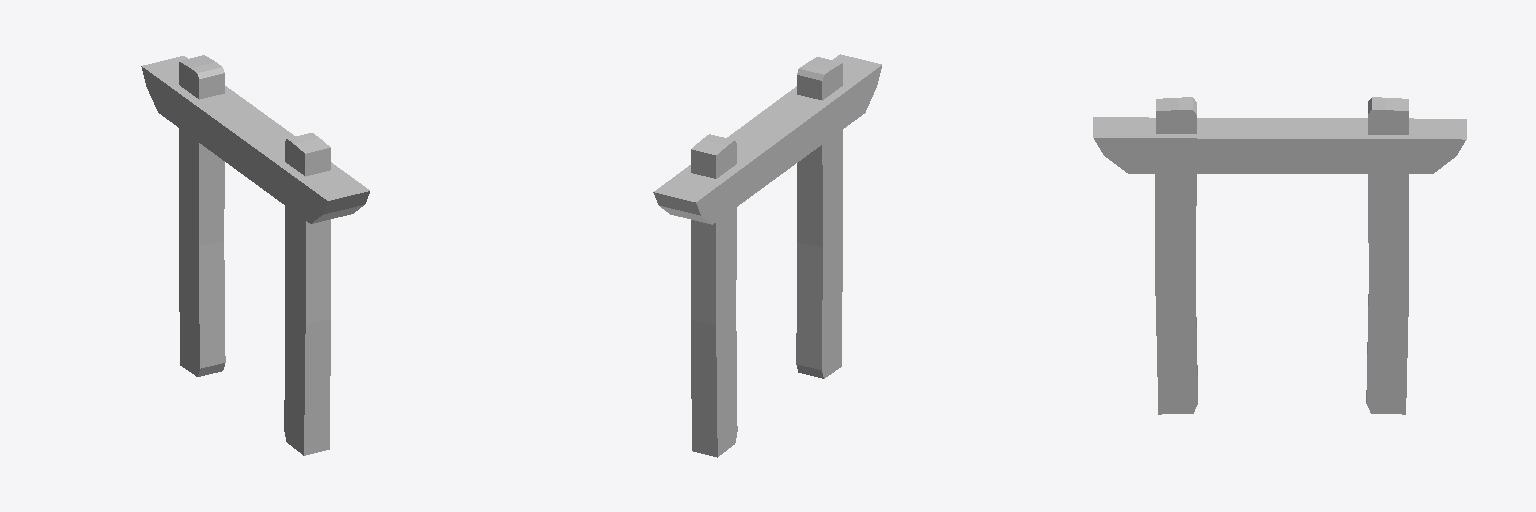
The model's file is arcoPuerta.obj.
3 renders of one model, left to right at view 1: azimuth 30°, elevation 25°; view 2: azimuth 150°, elevation 25°; view 3: azimuth 270°, elevation 25°, orthographic.
Parts seen in each view (by area): view 1: Cube_Cube.001; view 2: Cube_Cube.001; view 3: Cube_Cube.001.
Boxes of the visible parts, <box> form: Cube_Cube.001: <box>141,55,369,455</box>; Cube_Cube.001: <box>653,54,881,457</box>; Cube_Cube.001: <box>1093,97,1466,414</box>.
Bounding box in the file's own units: 1 × 6.82 × 7.58.